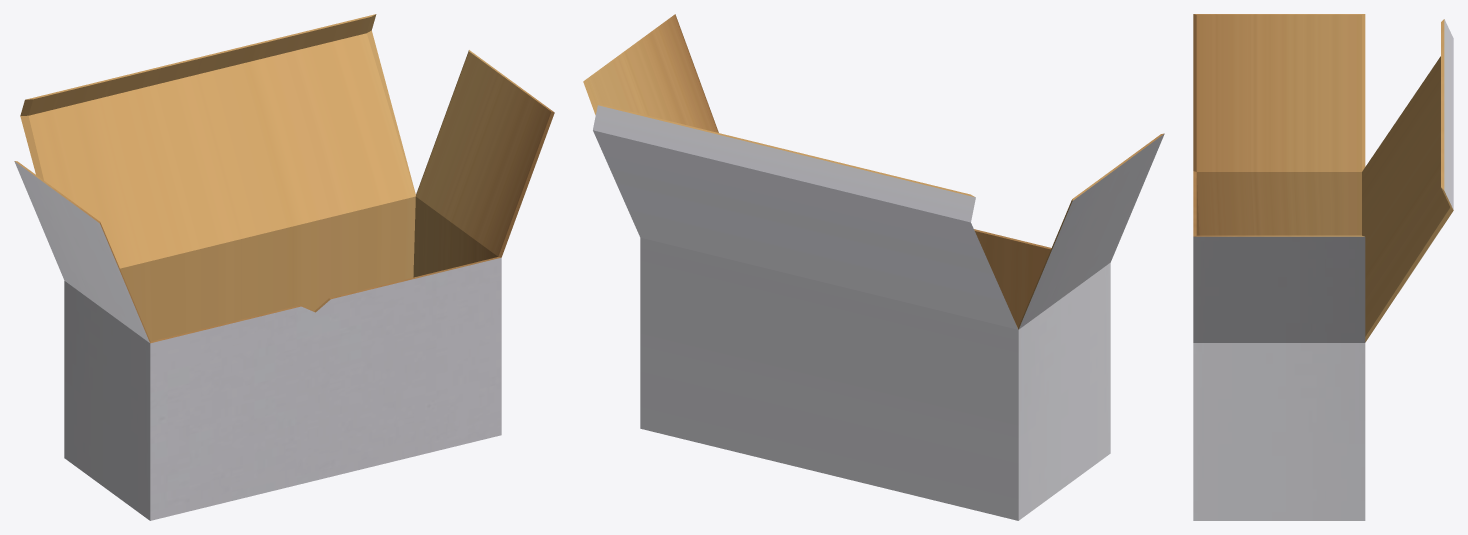
Rendered from doos.fbx.
The picture shows the model from 3 angles, left to right: view 1: azimuth 30°, elevation 25°; view 2: azimuth 150°, elevation 25°; view 3: azimuth 270°, elevation 25°; orthographic projection. The views are drawn at different scales.
Parts seen in each view (by area): view 1: pCube2; view 2: pCube2; view 3: pCube2.
Part boxes in pixels (bbox=[...]): pCube2: bbox=[14, 14, 554, 520]; pCube2: bbox=[583, 14, 1164, 520]; pCube2: bbox=[1193, 14, 1453, 520].
Size of the model in its own units: 16.51 by 11.43 by 8.16.
